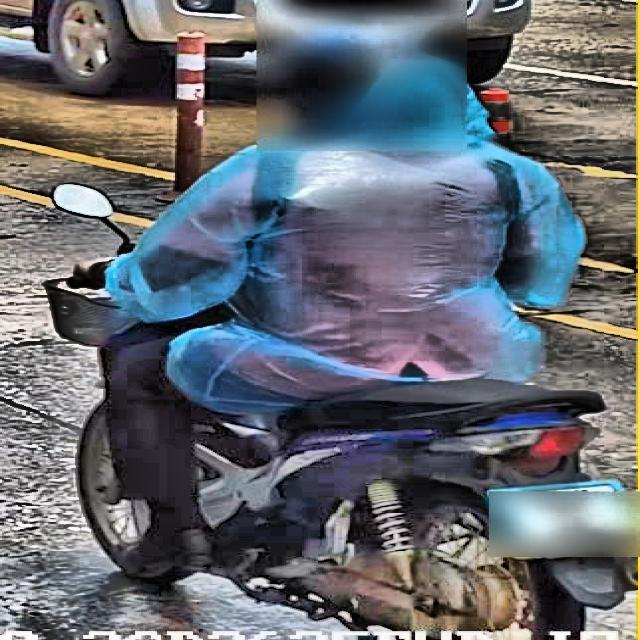motorcycle: (24, 172, 639, 640)
